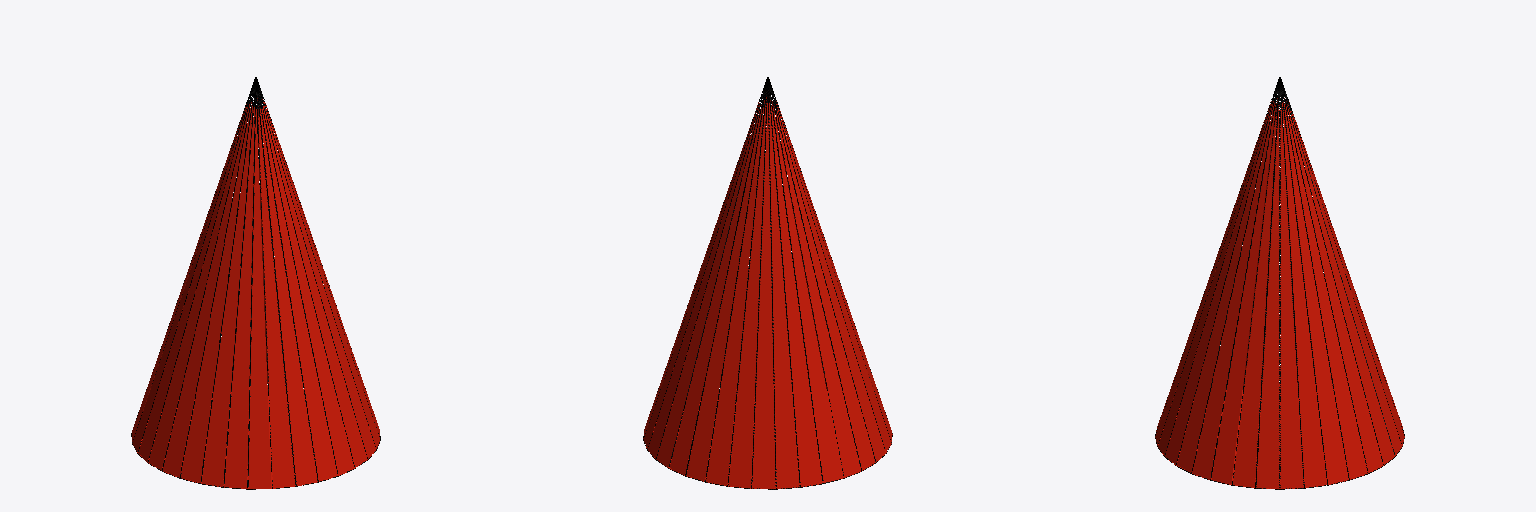
3 renders of one model, left to right at view 1: azimuth 30°, elevation 25°; view 2: azimuth 150°, elevation 25°; view 3: azimuth 270°, elevation 25°, orthographic.
Visible parts, largest first — view 1: 円錐; view 2: 円錐; view 3: 円錐.
Boxes of the visible parts, x1=… form: 円錐: x1=131, y1=77, x2=380, y2=489; 円錐: x1=643, y1=77, x2=892, y2=489; 円錐: x1=1155, y1=77, x2=1404, y2=489.
Bounding box in the file's own units: 0.6267 × 1 × 0.6267.
Materials: 1 (1 with a texture image).